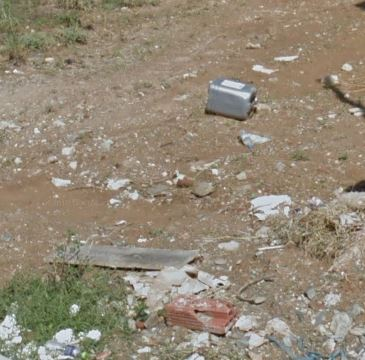trash: (42, 230, 203, 277), (147, 283, 240, 334), (203, 77, 263, 124), (40, 337, 96, 359)
